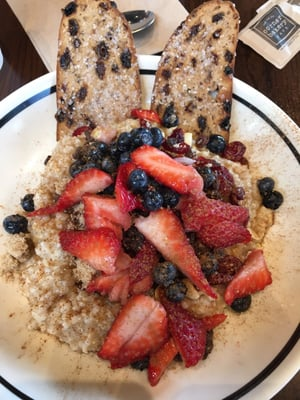pizza: (132, 208, 220, 301)
